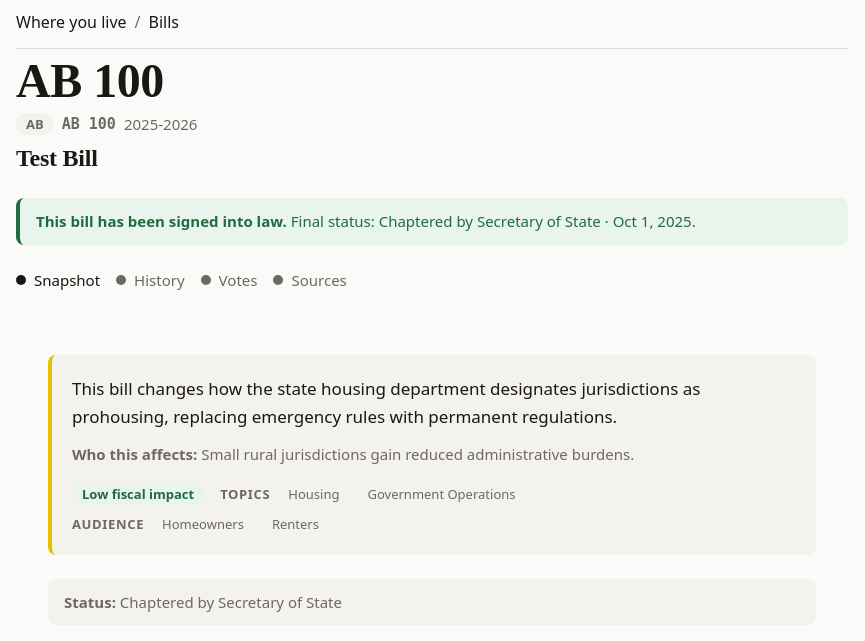
Scenario: BillDetailPage › Sources layer fiscal impact (#779) › renders the structured aiSummary.fiscalImpact.summary on the Sources tab
This screenshot has width=865, height=641.
Navigate Snapshot → History → Votes → Sources
Click the button "Sources": (310, 280) [274, 269, 347, 291]
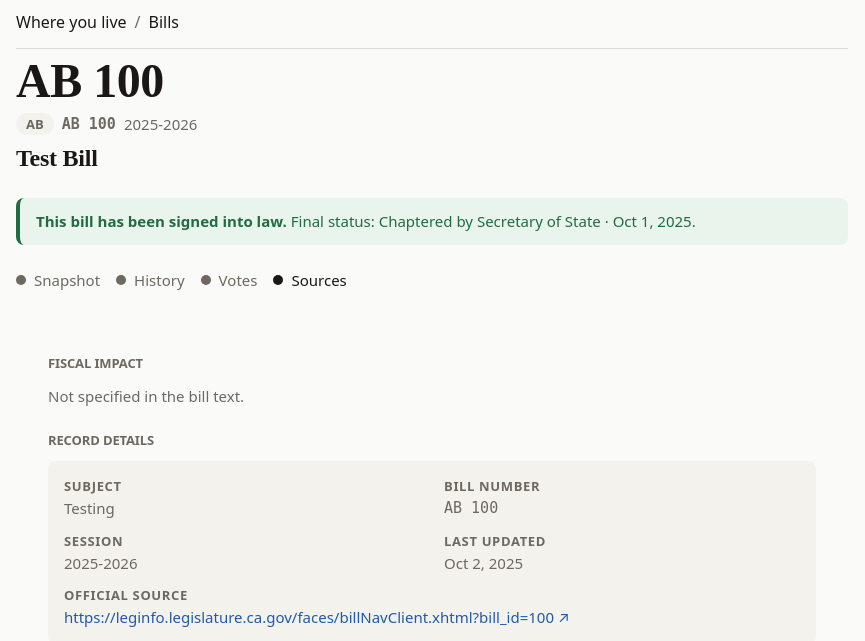
Check: the text "Not specified in the bill text." is shown, box [48, 386, 244, 406]
